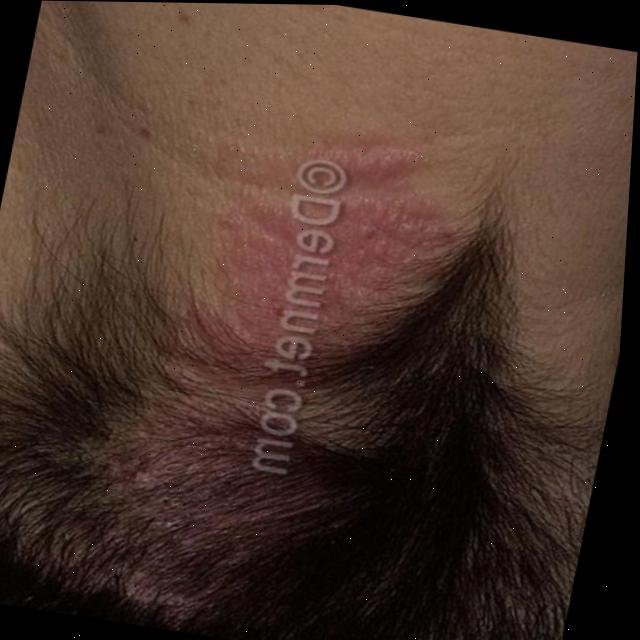Eczema: (75, 83, 460, 640)
